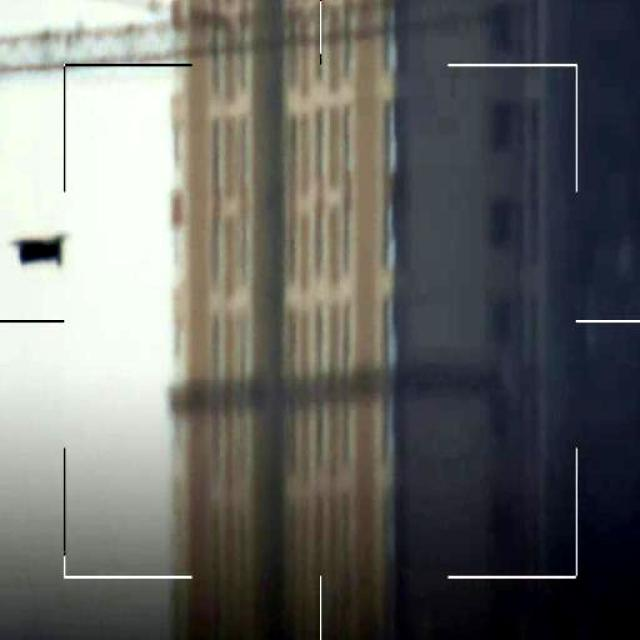bird: (20, 236, 78, 270)
